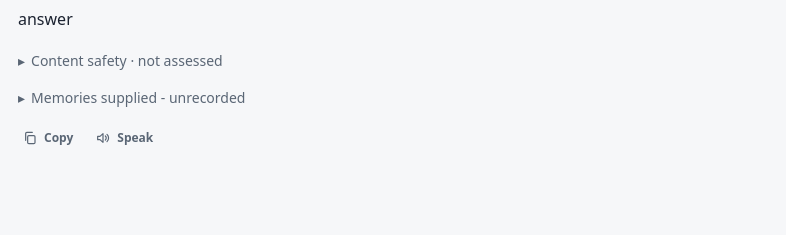
Test: MessageList content-safety panel › says plainly when no assessment was returned
Click the heading "Content safety · not assessed" at (127, 61), box [31,51,223,70]
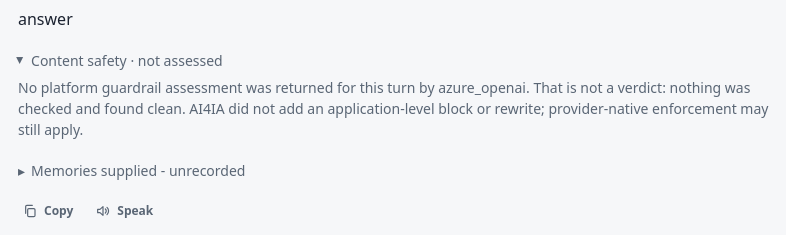
Expected: the text "No platform guardrail assessment was returned" is shown, [18,78,415,97]
Expected: the text "That is not a verdict" is shown, [18,78,768,139]
